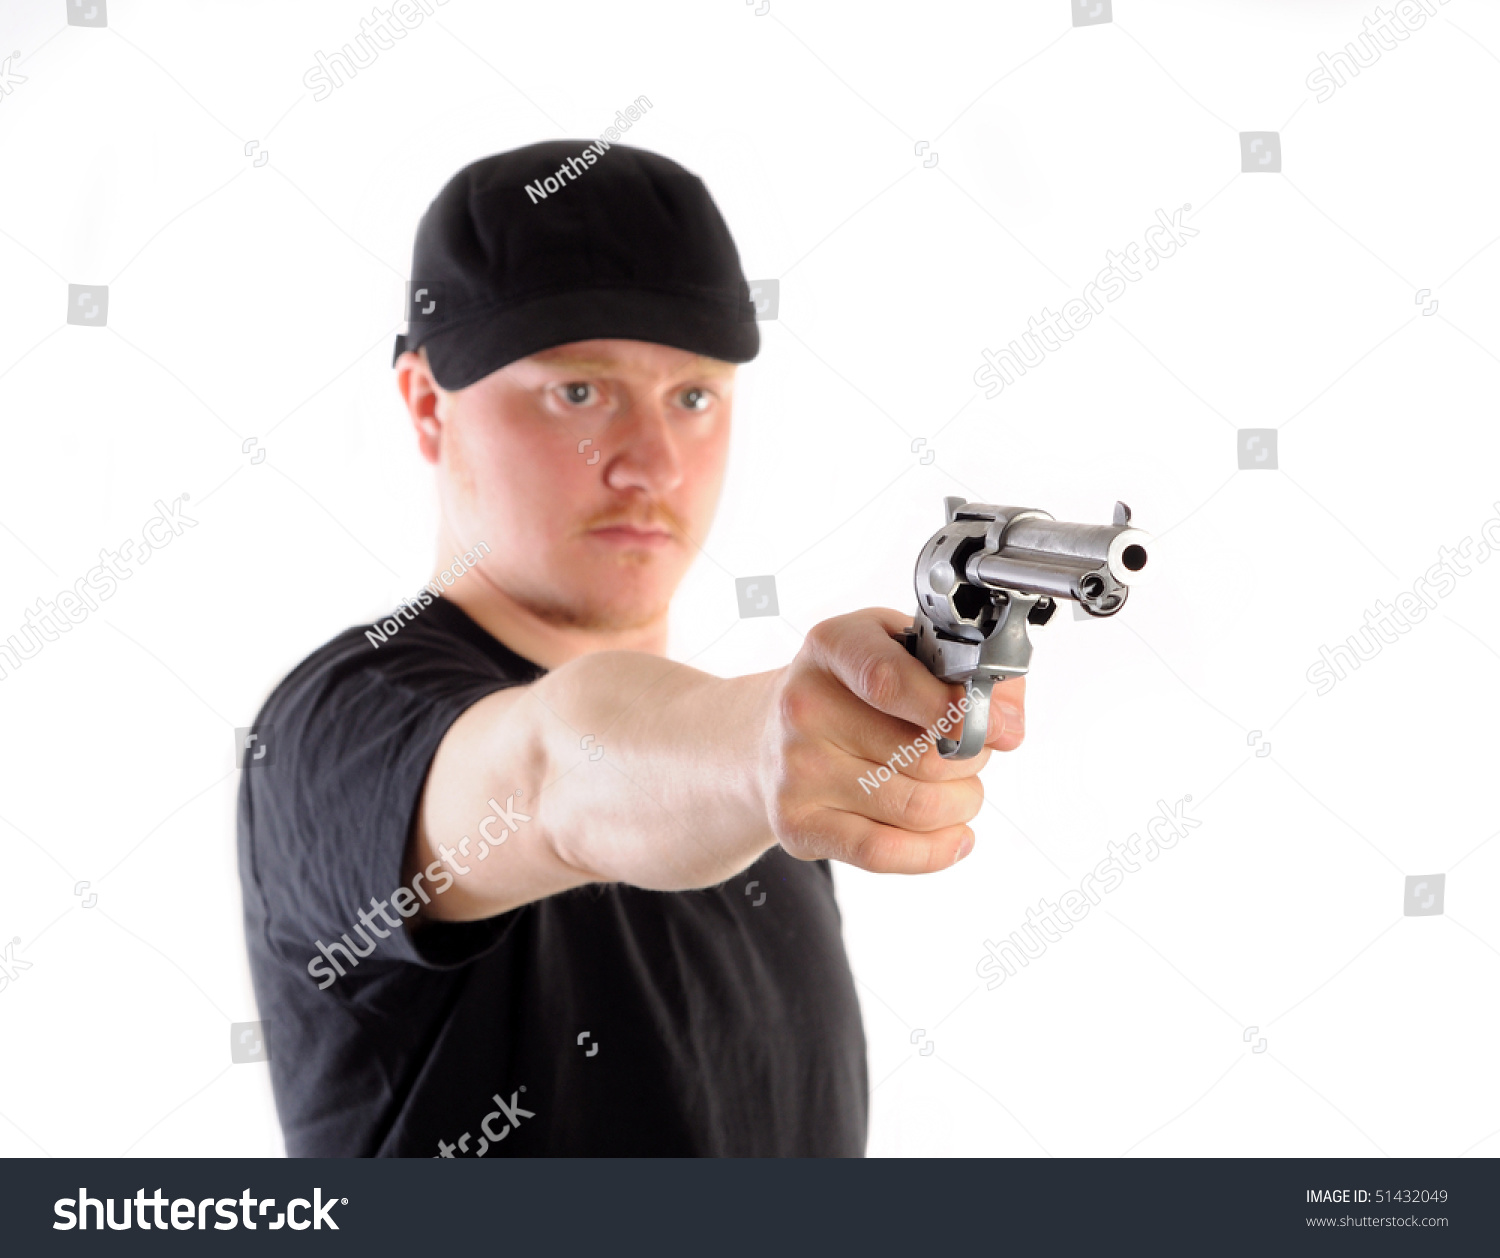Revolver: (841, 473, 1196, 776)
